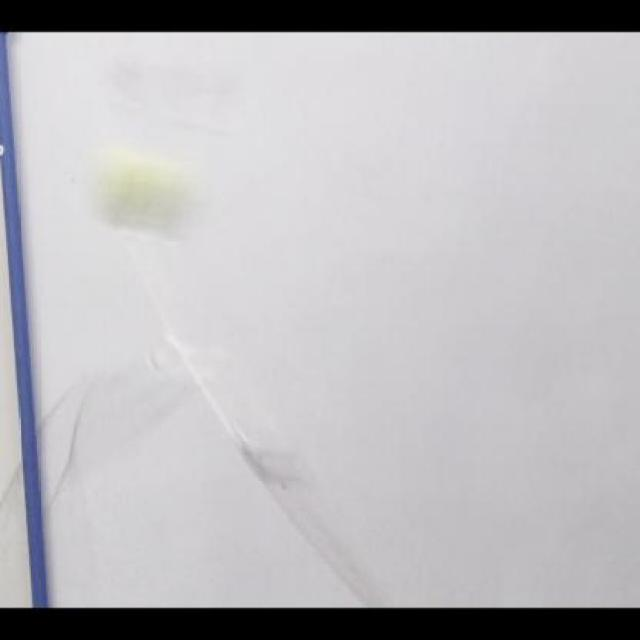baseball: (91, 148, 200, 241)
